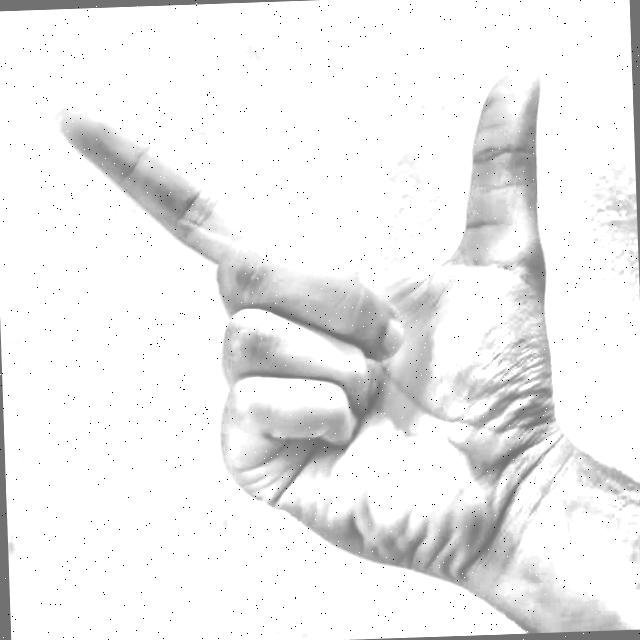ChandraBindu: (39, 15, 590, 612)
